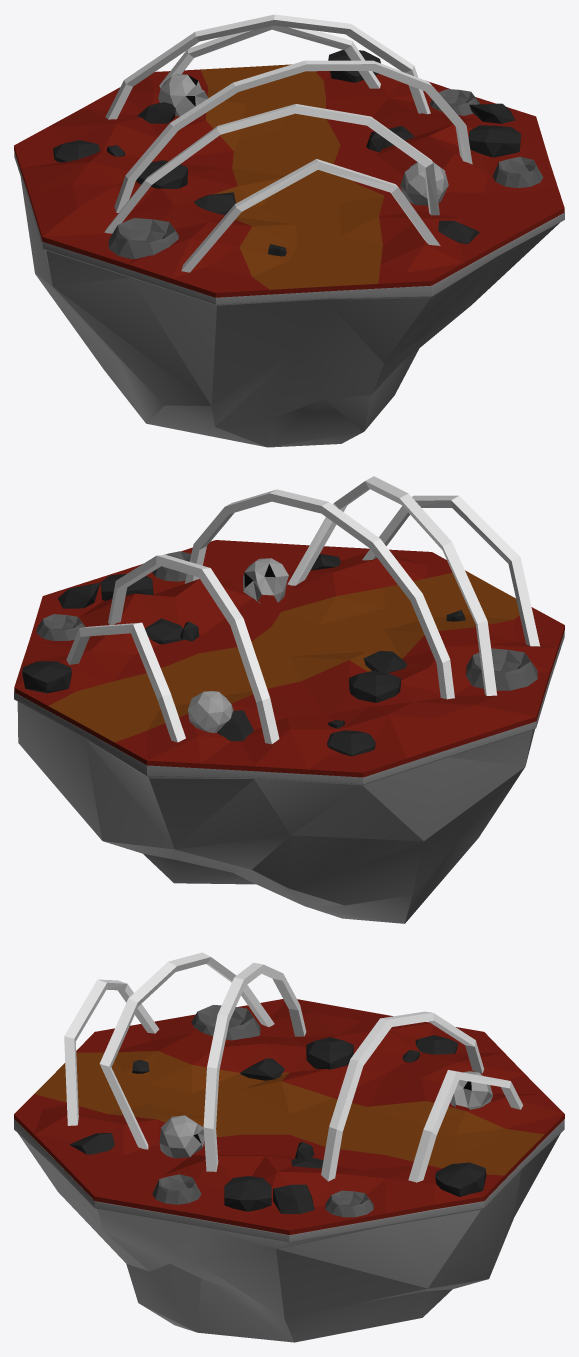
The model's file is Mars_planet_base_001.FBX.
The picture shows the model from 3 angles, top to bottom: view 1: azimuth 30°, elevation 25°; view 2: azimuth 150°, elevation 25°; view 3: azimuth 270°, elevation 25°; orthographic projection. The views are drawn at different scales.
Parts seen in each view (by area): view 1: 007_MARS_PLANET; view 2: 007_MARS_PLANET; view 3: 007_MARS_PLANET.
Part boxes in pixels (box(x1,y1,x2,y2)): 007_MARS_PLANET: box(14, 14, 564, 447); 007_MARS_PLANET: box(14, 476, 564, 923); 007_MARS_PLANET: box(14, 952, 564, 1342).
Size of the model in its own units: 16.23 by 11.86 by 16.22.
